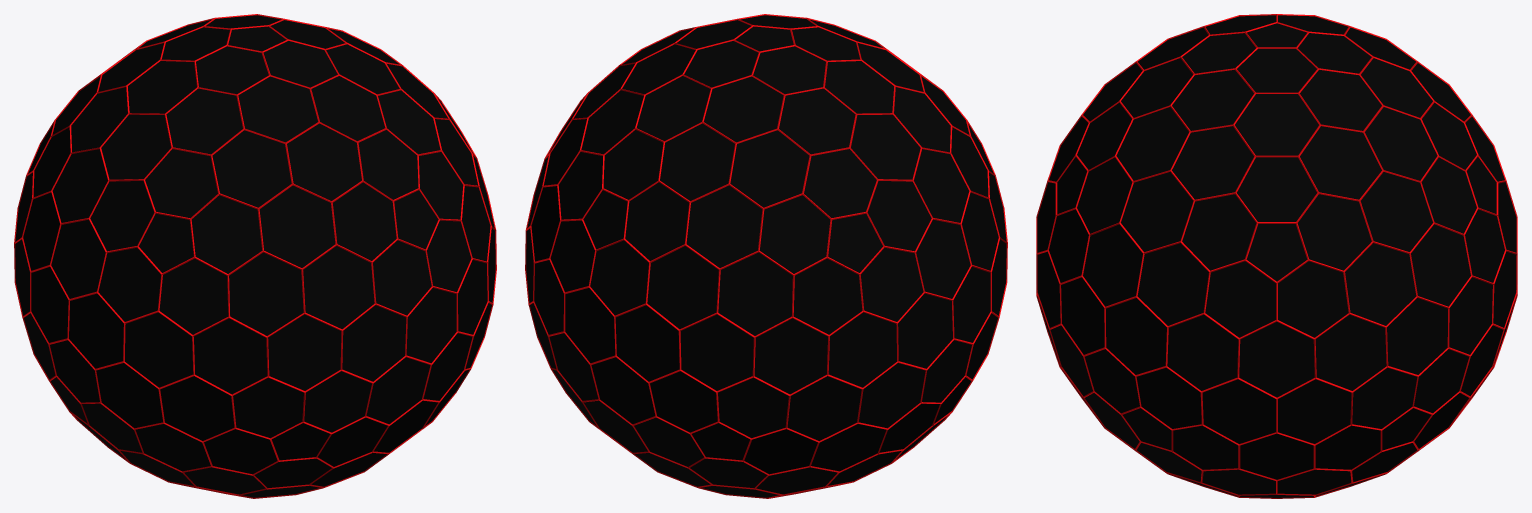
The model's file is Scifi.fbx.
3 renders of one model, left to right at view 1: azimuth 30°, elevation 25°; view 2: azimuth 150°, elevation 25°; view 3: azimuth 270°, elevation 25°, orthographic.
Parts seen in each view (by area): view 1: Icosphere; view 2: Icosphere; view 3: Icosphere.
Part boxes in pixels (bbox=[...]): Icosphere: bbox=[14, 14, 496, 498]; Icosphere: bbox=[525, 14, 1007, 498]; Icosphere: bbox=[1036, 14, 1517, 498].
Bounding box in the file's own units: 19.44 × 19.6 × 19.39.
